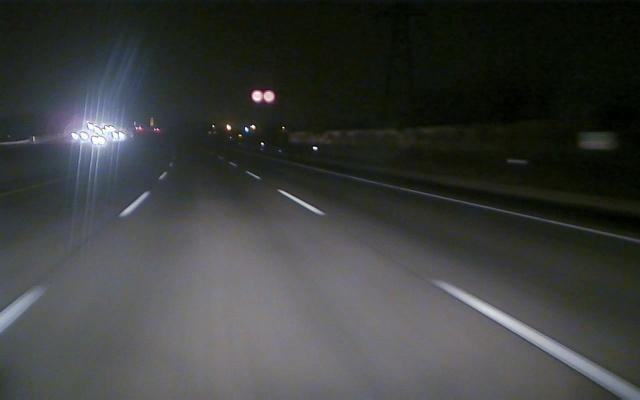lane: (275, 187, 631, 398), (350, 174, 640, 245), (3, 194, 148, 331)
